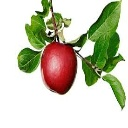apple: (40, 42, 78, 96)
